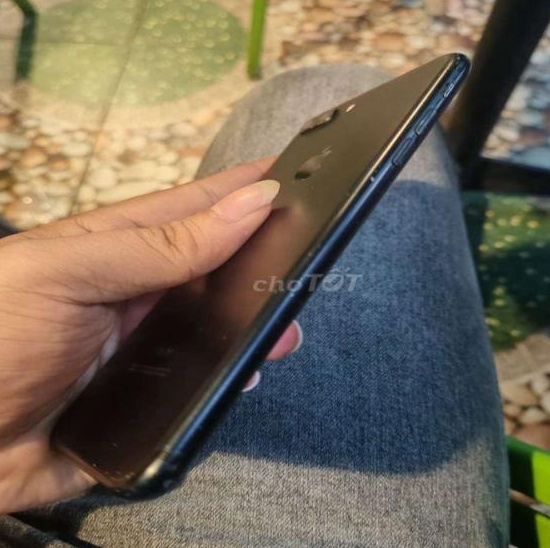scratch: (115, 331, 235, 383), (68, 433, 138, 475), (349, 163, 389, 192), (289, 168, 332, 193), (293, 232, 325, 259), (316, 108, 336, 130)
